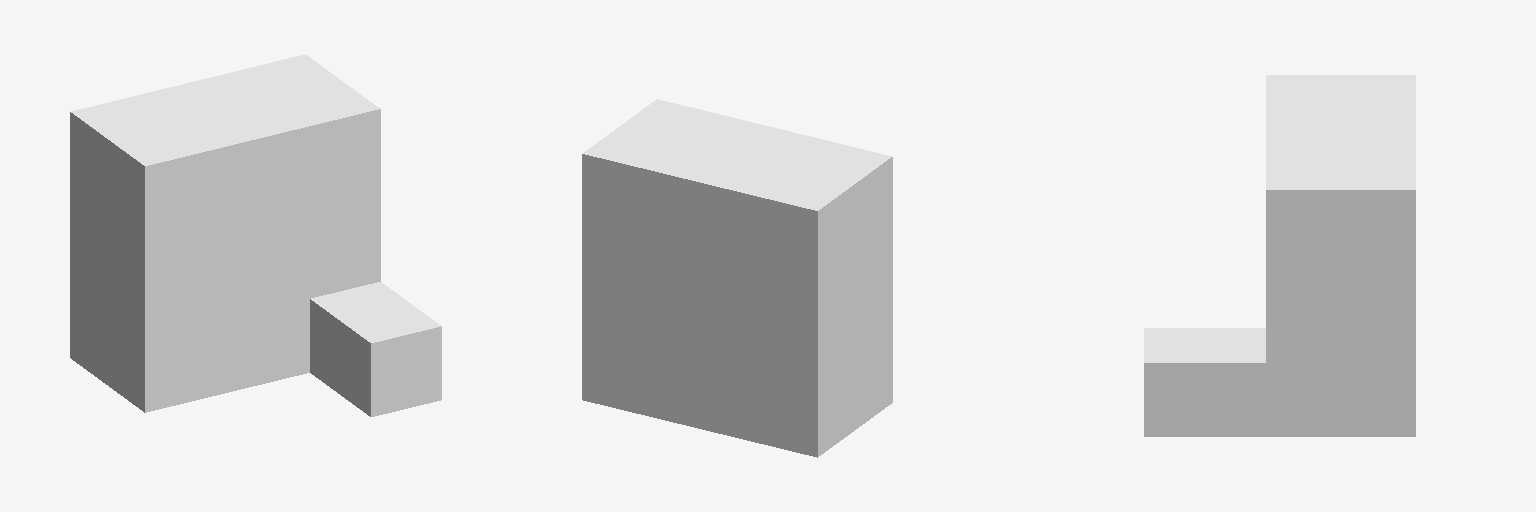
File: corner_piece.obj
The picture shows the model from 3 angles: view 1: azimuth 30°, elevation 25°; view 2: azimuth 150°, elevation 25°; view 3: azimuth 270°, elevation 25°; orthographic projection.
Visible parts, largest first — view 1: corner_piece; view 2: corner_piece; view 3: corner_piece.
Part boxes in pixels (bbox=[...]): corner_piece: bbox=[70, 54, 441, 416]; corner_piece: bbox=[582, 99, 892, 457]; corner_piece: bbox=[1144, 75, 1415, 436].
Bounding box in the file's own units: 20 × 20 × 20.